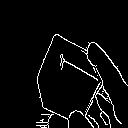cube: (25, 24, 106, 118)
